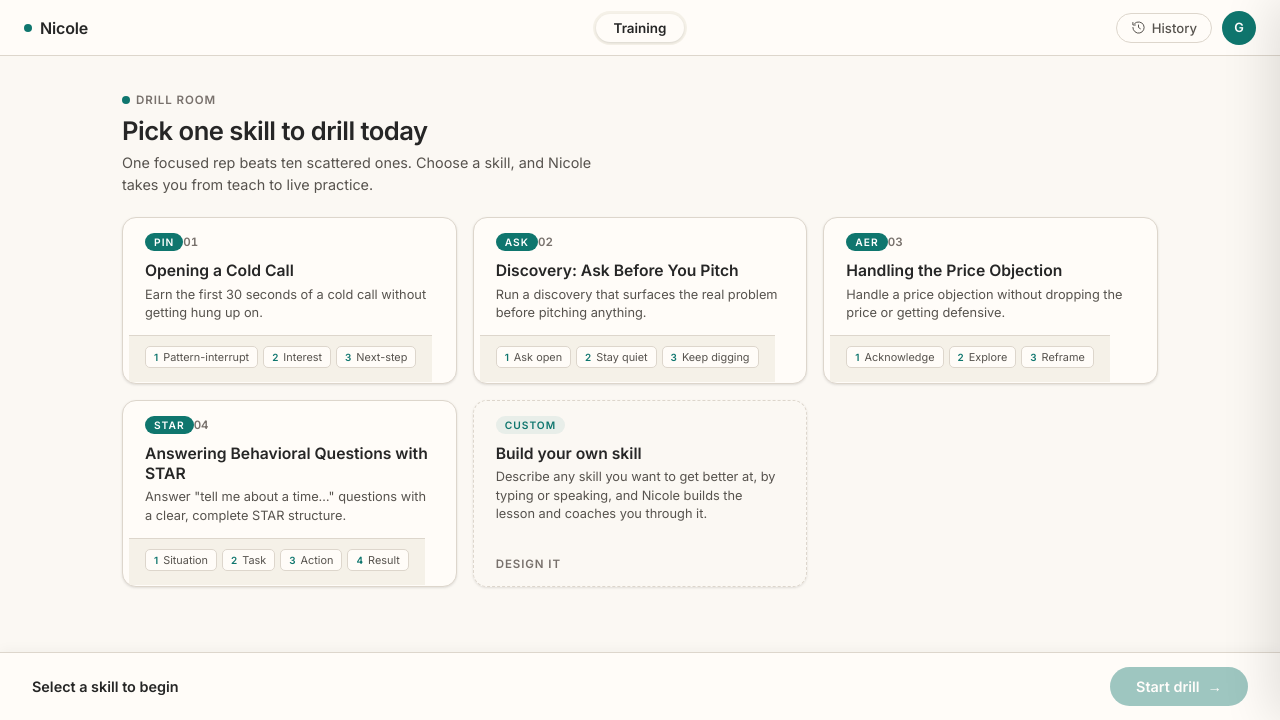
Scenario: TrainingScreen › shows the "you're ready" confirm ONLY at readiness_check, with a full-width live room
Click the button with test id "lesson-card" that starts with "PIN" at coordinates (289, 300), box [122,217,457,384]
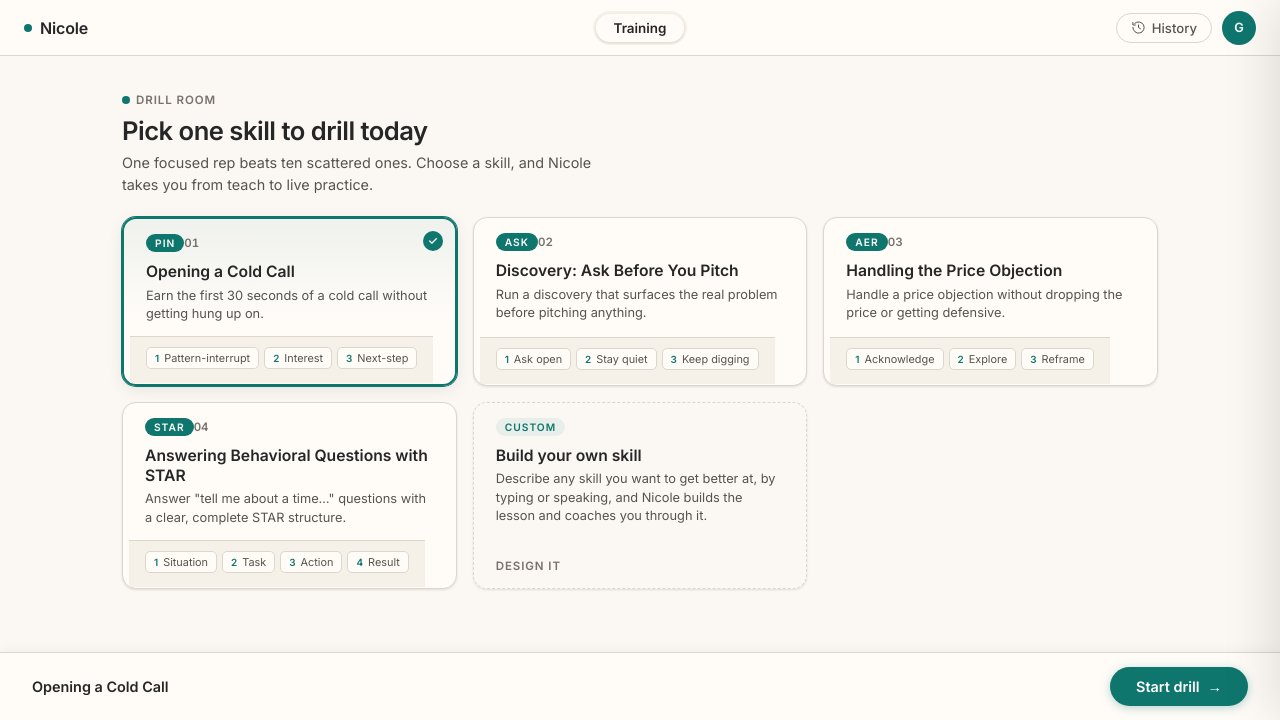
Click the button with test id "start-training-button" at coordinates (1179, 686), box [1110,667,1248,706]
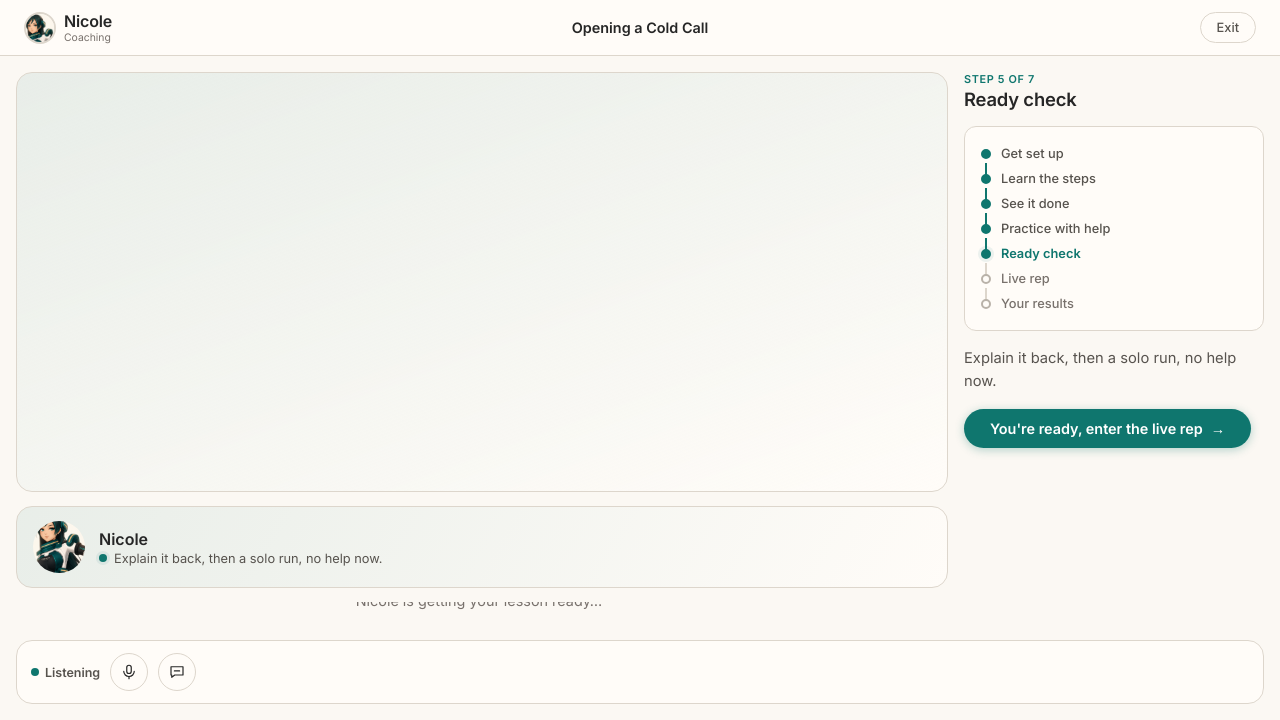
Now the element with test id "live-room" is shown
